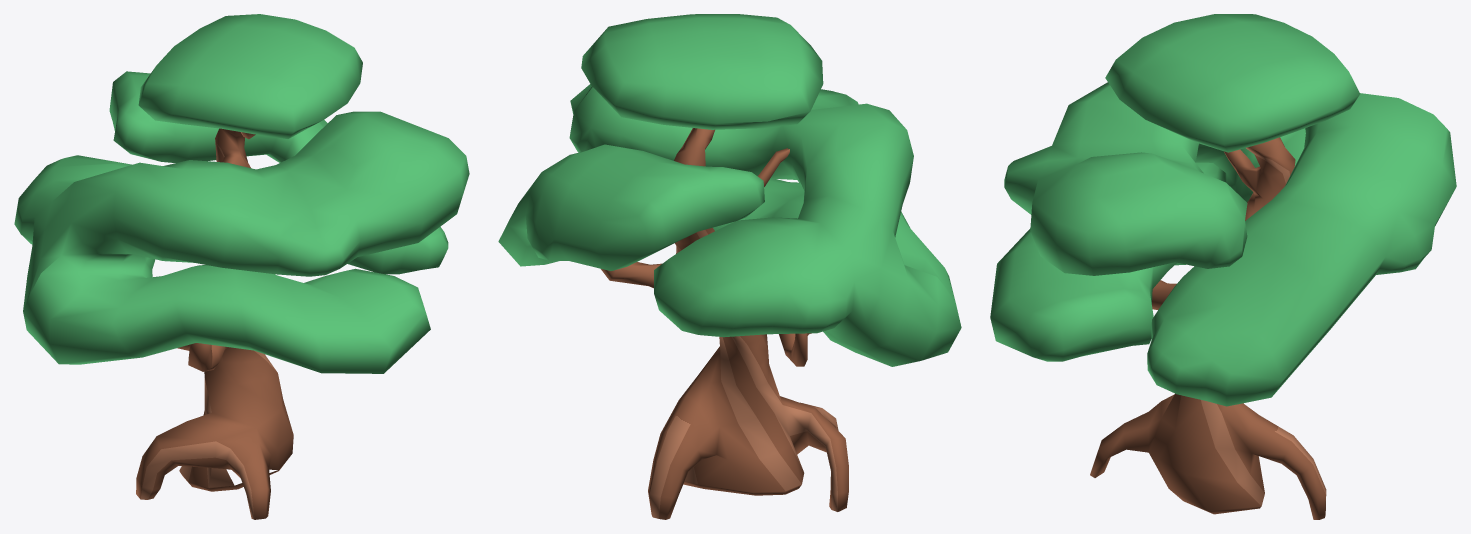
Rendered from TreeGiant_A_01_LOD2.gltf.
The picture shows the model from 3 angles, left to right: view 1: azimuth 30°, elevation 25°; view 2: azimuth 150°, elevation 25°; view 3: azimuth 270°, elevation 25°; orthographic projection. The views are drawn at different scales.
Parts seen in each view (by area): view 1: TreeGiant_A_01_LOD2_Cylinder.812; view 2: TreeGiant_A_01_LOD2_Cylinder.812; view 3: TreeGiant_A_01_LOD2_Cylinder.812.
Part boxes in pixels (x1,y1,x2,y2): TreeGiant_A_01_LOD2_Cylinder.812: (14, 14, 469, 519); TreeGiant_A_01_LOD2_Cylinder.812: (498, 14, 961, 519); TreeGiant_A_01_LOD2_Cylinder.812: (990, 14, 1456, 519).
Size of the model in its own units: 17.42 by 17.61 by 15.8.
1 material, 1 textured.
